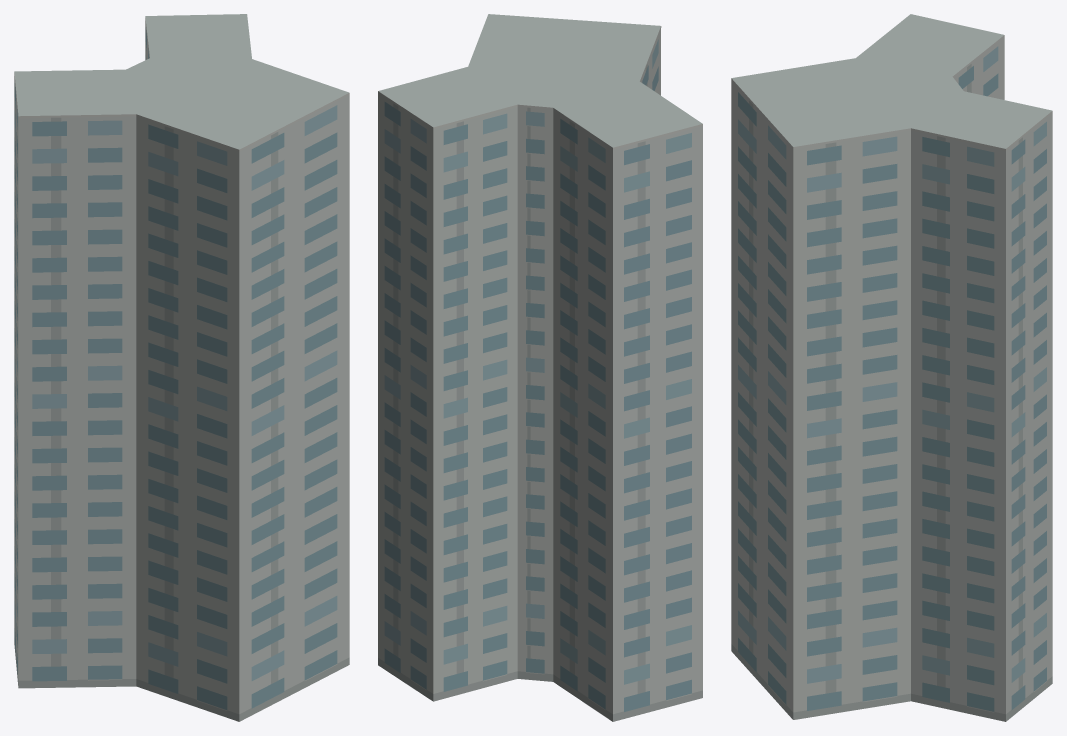
Rendered from residential-4f7c6bd9-6236-445a-84a1-03e25455268c.glb.
3 views of the same model, side by side, from view 1: azimuth 30°, elevation 25°; view 2: azimuth 150°, elevation 25°; view 3: azimuth 270°, elevation 25° (orthographic).
Visible parts, largest first — view 1: residential-4f7c6bd9-6236-445a-84a1-03e25455268c.tmp; view 2: residential-4f7c6bd9-6236-445a-84a1-03e25455268c.tmp; view 3: residential-4f7c6bd9-6236-445a-84a1-03e25455268c.tmp.
Boxes of the visible parts, x1,y1,x2,y2 form: residential-4f7c6bd9-6236-445a-84a1-03e25455268c.tmp: [14, 14, 349, 721]; residential-4f7c6bd9-6236-445a-84a1-03e25455268c.tmp: [378, 14, 702, 721]; residential-4f7c6bd9-6236-445a-84a1-03e25455268c.tmp: [731, 14, 1052, 721].
Size of the model in its own units: 32.84 by 65 by 33.05.
